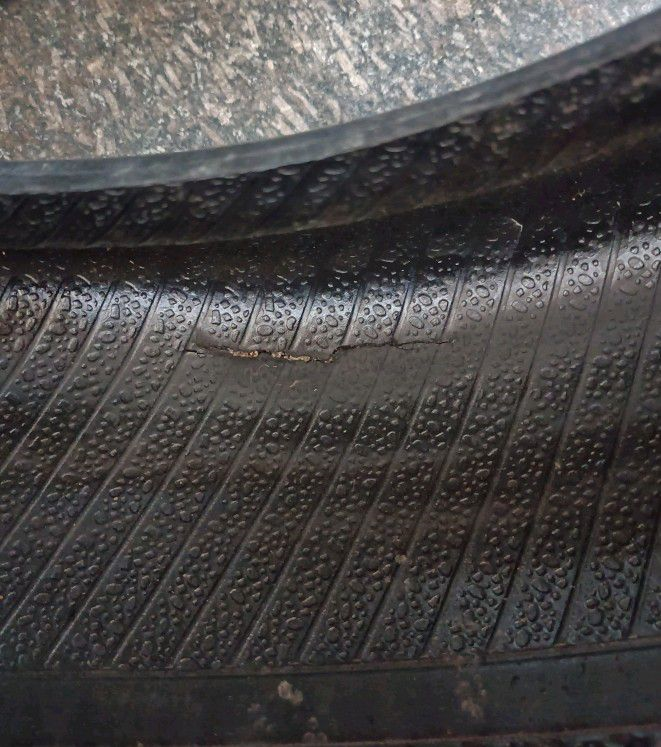CBU: (153, 307, 497, 414)
